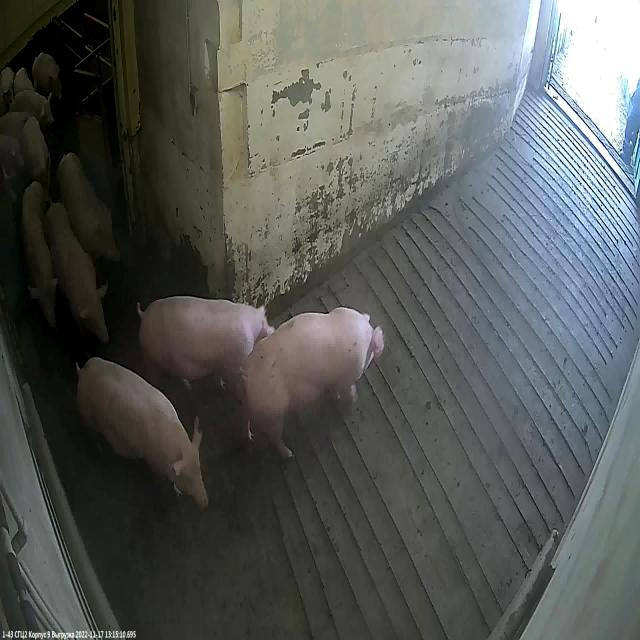pig: (246, 309, 387, 459), (75, 357, 209, 511), (140, 296, 272, 410), (47, 200, 108, 343), (58, 153, 120, 275), (20, 183, 59, 330), (9, 89, 54, 133), (22, 118, 50, 184), (32, 53, 62, 104)
